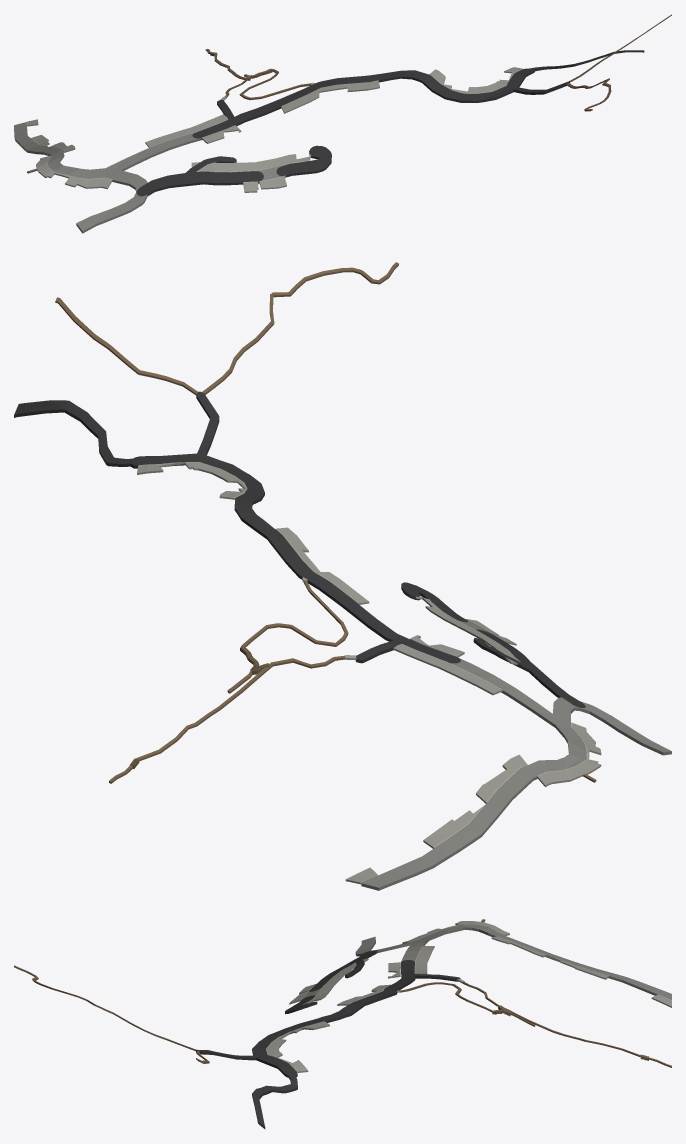
3 renders of one model, top to bottom at view 1: azimuth 30°, elevation 25°; view 2: azimuth 150°, elevation 25°; view 3: azimuth 270°, elevation 25°, orthographic. The views are drawn at different scales.
Bounding box in the file's own units: 293 × 90.17 × 292.
